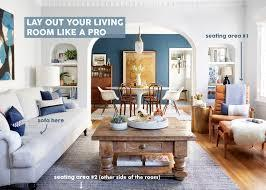chair: (206, 81, 262, 143), (139, 83, 163, 116), (95, 85, 121, 112), (164, 86, 189, 113), (120, 84, 137, 117), (143, 84, 155, 108)
light: (34, 61, 65, 95), (129, 22, 149, 58), (220, 65, 236, 82)
sofa: (0, 86, 87, 190)
table: (92, 117, 195, 180), (105, 85, 173, 114), (219, 122, 266, 163)
